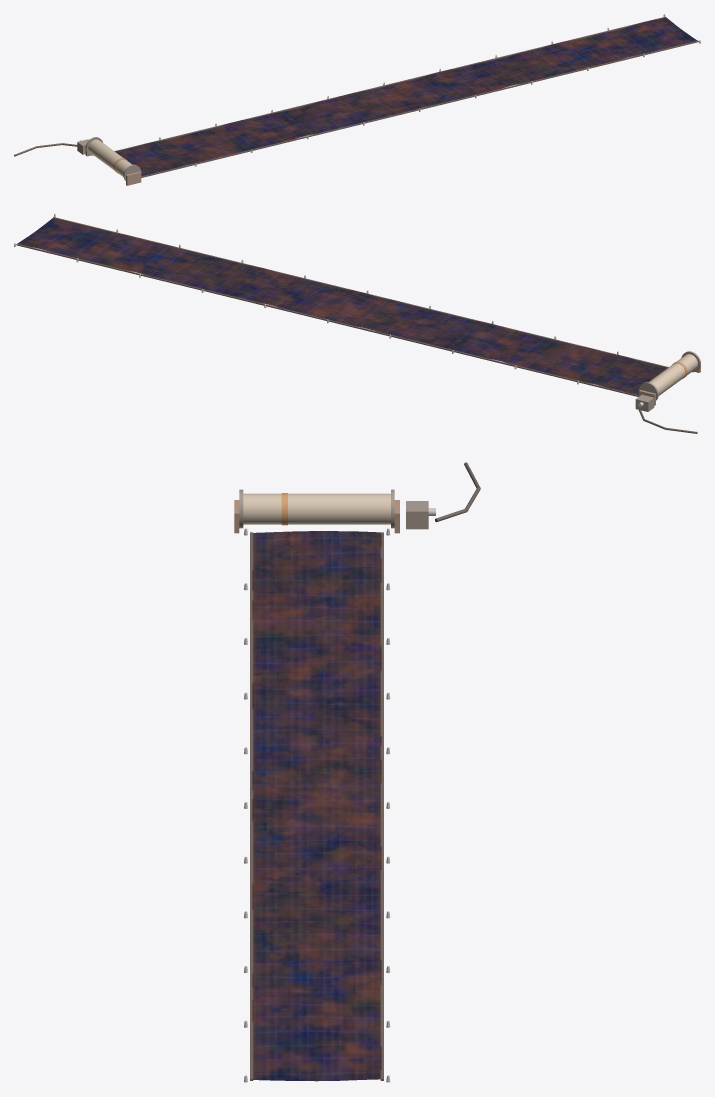
File: E01_solar_blanket_20m.glb
The picture shows the model from 3 angles, top to bottom: view 1: azimuth 30°, elevation 25°; view 2: azimuth 150°, elevation 25°; view 3: azimuth 270°, elevation 25°; orthographic projection. The views are drawn at different scales.
Visible parts, largest first — view 1: solar_blanket, edge_hem, roller_cap; view 2: solar_blanket, edge_hem, roller_cap; view 3: solar_blanket, edge_hem, roller_cap.
Part boxes in pixels (x1,y1,x2,y2): solar_blanket: [115, 17, 697, 176]; edge_hem: [14, 16, 698, 177]; roller_cap: [77, 137, 141, 180]; solar_blanket: [18, 218, 667, 395]; edge_hem: [16, 217, 697, 433]; roller_cap: [635, 351, 700, 411]; solar_blanket: [252, 531, 381, 1081]; edge_hem: [243, 462, 480, 1080]; roller_cap: [239, 489, 428, 529].
Bounding box in the file's own units: 22.54 × 0.6 × 3.81.
5 materials, 1 textured.
